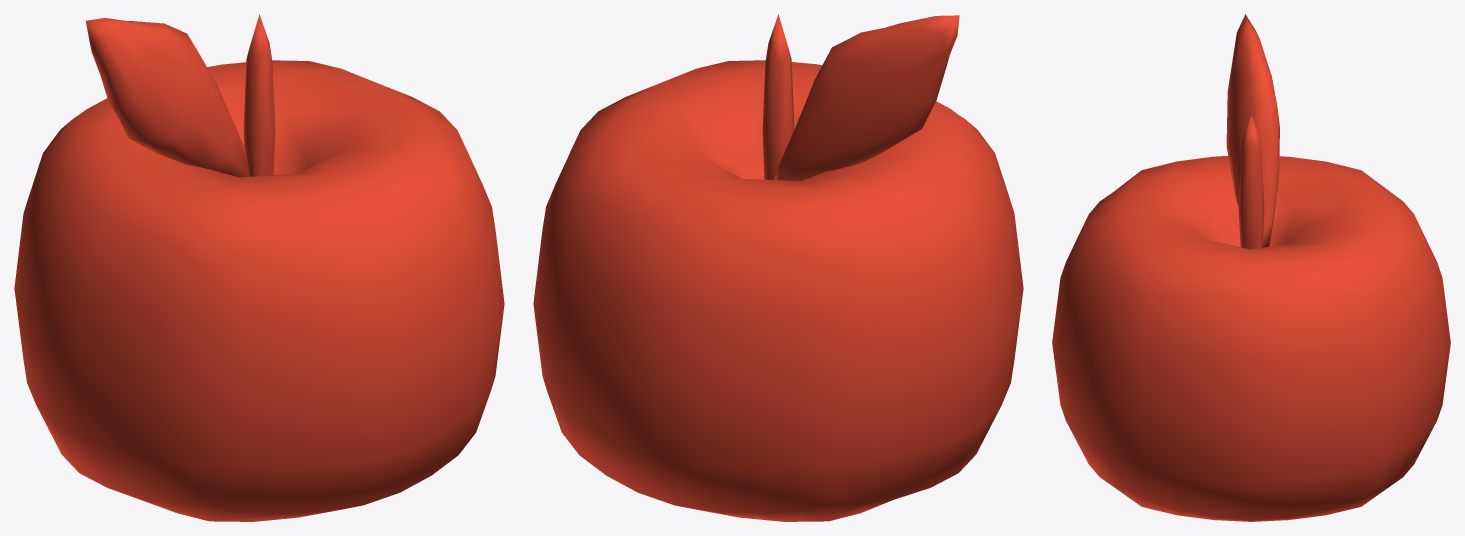
The model's file is fruit.fbx.
3 views of the same model, side by side, from view 1: azimuth 30°, elevation 25°; view 2: azimuth 150°, elevation 25°; view 3: azimuth 270°, elevation 25° (orthographic). The views are drawn at different scales.
Parts seen in each view (by area): view 1: Apple; view 2: Apple; view 3: Apple.
Boxes of the visible parts, x1=… form: Apple: x1=14, y1=14, x2=504, y2=521; Apple: x1=533, y1=14, x2=1023, y2=521; Apple: x1=1052, y1=14, x2=1450, y2=521.
Size of the model in its own units: 288 by 305 by 288.
